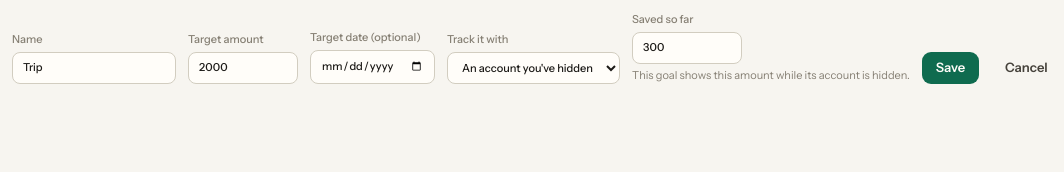
GoalForm › a goal whose account is hidden or gone › keeps the amount when switched to updating it by hand
Select "I'll update it myself" in the dropdown labelled "Track it with" at (534, 68), box x1=447 y1=52 x2=620 y2=84
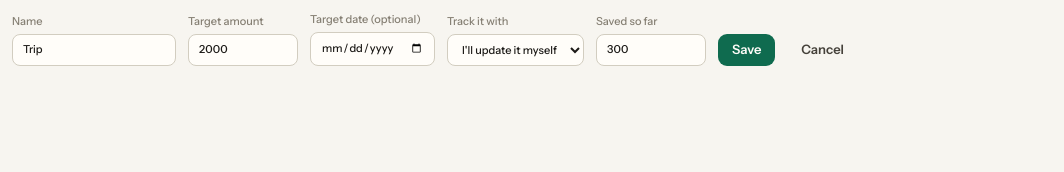
expect the field labelled "Saved so far" holds "300": met, box x1=596 y1=34 x2=706 y2=66
expect the text "This goal shows this amount while its account is hidden." is gone: met
